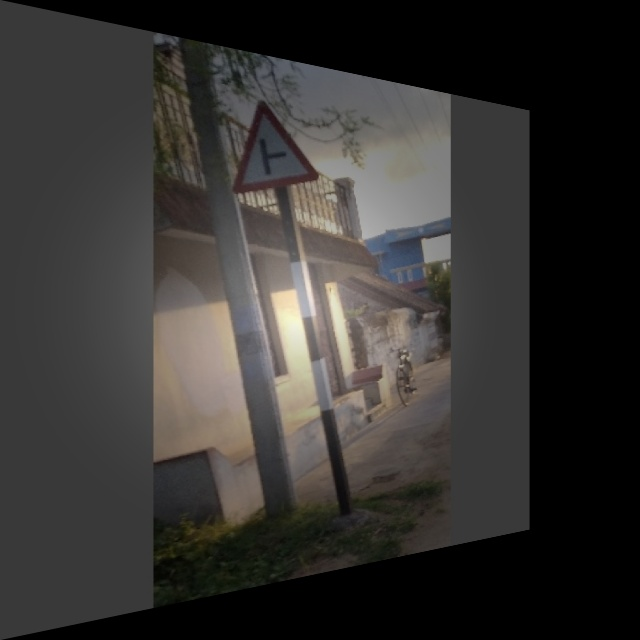Side_Road_Right: (231, 88, 321, 200)
